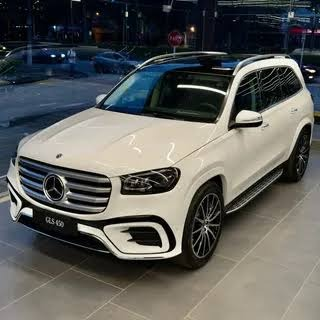car: (10, 58, 320, 263), (215, 3, 318, 75), (95, 47, 175, 76), (1, 45, 74, 74), (92, 50, 141, 76), (9, 45, 66, 64)
